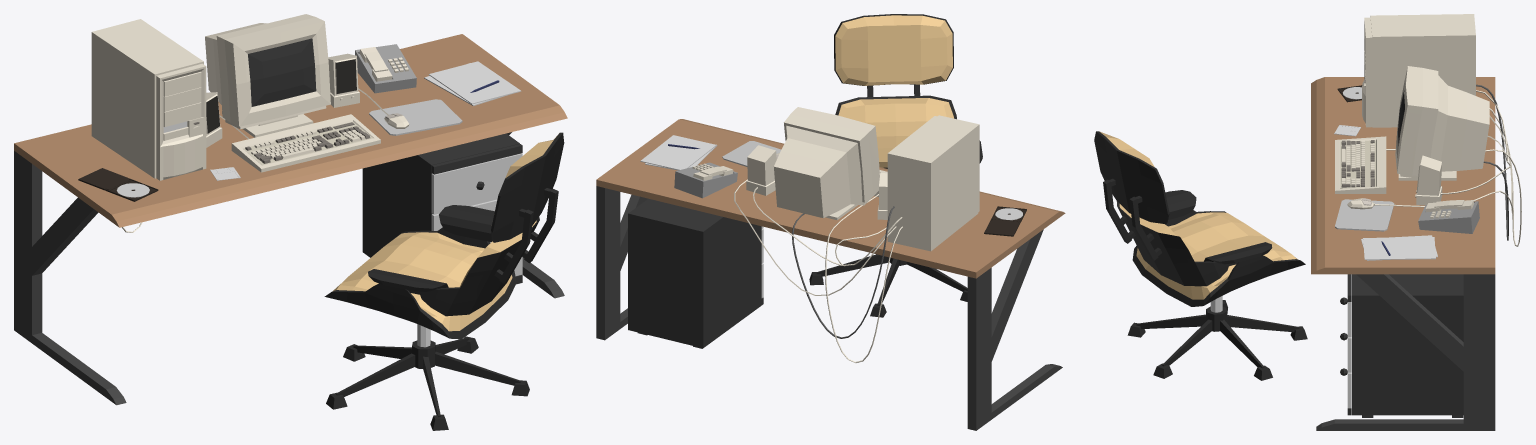
The model's file is vintage_desk.glb.
3 renders of one model, left to right at view 1: azimuth 30°, elevation 25°; view 2: azimuth 150°, elevation 25°; view 3: azimuth 270°, elevation 25°, orthographic. The views are drawn at different scales.
Parts seen in each view (by area): view 1: Office_desk, Cube.000, Computer_case, Computer_monitor.001, Drawers, Keyboard, Paper2, Mousepad, Phone_stand, SpeakerL, CD_case, SpeakerR (+1 smaller); view 2: Office_desk, Drawers, Cube.000, Computer_case, Computer_monitor.001, Paper2, SpeakerL, Phone_stand, CD_case, Monitor_cable, KeyboardCable, Mousepad (+2 smaller); view 3: Office_desk, Cube.000, Drawers, Computer_case, Computer_monitor.001, Keyboard, Paper2, Mousepad, Phone_stand, SpeakerL, Monitor_cable, KeyboardCable (+1 smaller).
Part boxes in pixels (<box>): Office_desk: <box>14,34,567,405</box>; Cube.000: <box>324,132,564,430</box>; Computer_case: <box>91,19,206,180</box>; Computer_monitor.001: <box>205,14,330,137</box>; Drawers: <box>362,133,522,284</box>; Keyboard: <box>231,114,380,172</box>; Paper2: <box>428,61,521,104</box>; Mousepad: <box>369,99,462,135</box>; Phone_stand: <box>355,44,416,93</box>; SpeakerL: <box>328,53,359,107</box>; CD_case: <box>78,168,158,201</box>; SpeakerR: <box>206,92,222,147</box>; Office_desk: <box>596,119,1065,430</box>; Drawers: <box>628,198,763,348</box>; Cube.000: <box>809,14,982,317</box>; Computer_case: <box>887,115,979,251</box>; Computer_monitor.001: <box>774,107,879,220</box>; Paper2: <box>640,135,716,170</box>; SpeakerL: <box>746,145,776,195</box>; Phone_stand: <box>674,162,737,198</box>; CD_case: <box>984,206,1026,236</box>; Monitor_cable: <box>792,206,894,338</box>; KeyboardCable: <box>825,194,902,362</box>; Mousepad: <box>722,141,781,166</box>; Office_desk: <box>1311,77,1495,430</box>; Cube.000: <box>1094,131,1307,380</box>; Drawers: <box>1340,274,1463,417</box>; Computer_case: <box>1362,14,1475,127</box>; Computer_monitor.001: <box>1395,66,1489,180</box>; Keyboard: <box>1335,136,1386,193</box>; Paper2: <box>1363,237,1435,259</box>; Mousepad: <box>1335,199,1394,231</box>; Phone_stand: <box>1418,201,1479,233</box>; SpeakerL: <box>1415,155,1442,205</box>; Monitor_cable: <box>1476,84,1508,240</box>; KeyboardCable: <box>1386,108,1521,246</box>.
Size of the model in its own units: 1.88 by 1.16 by 1.78.
Materials: 2 (1 with a texture image).
